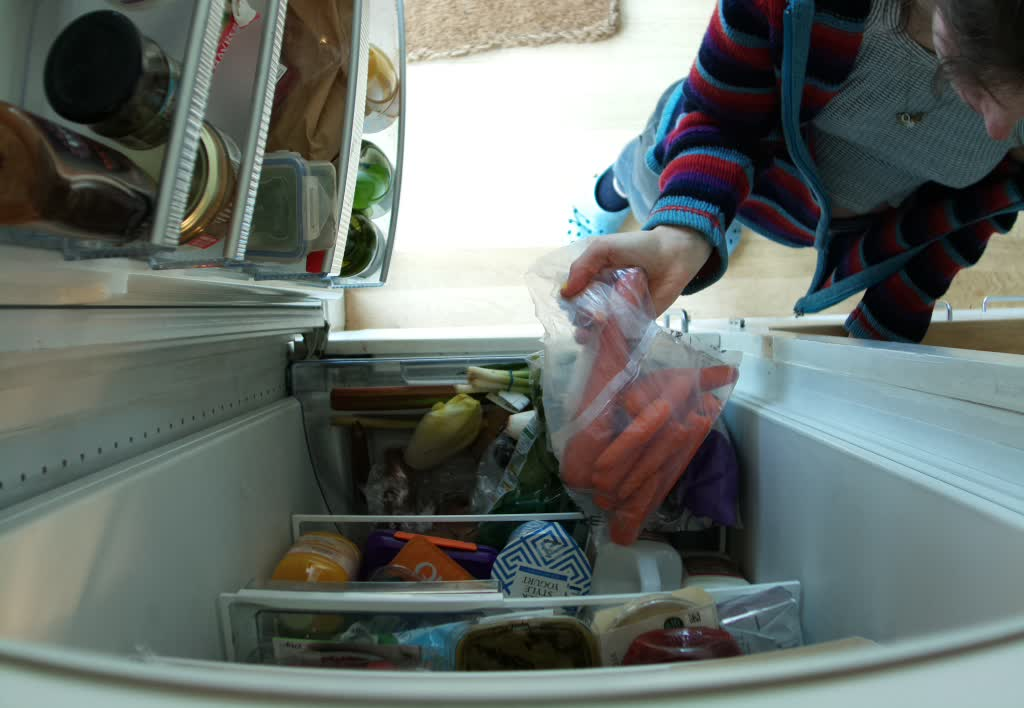carrot: (559, 268, 738, 545)
